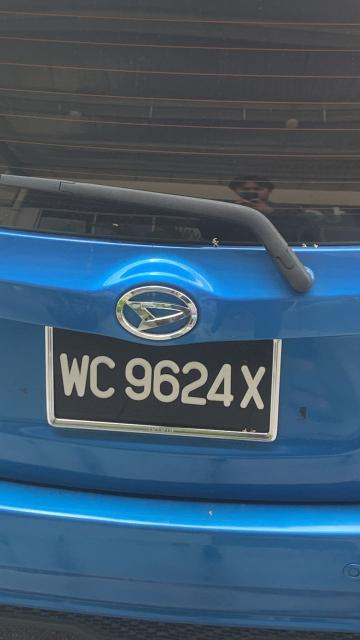License_Plate: (48, 332, 288, 438)
car: (1, 1, 360, 640)
